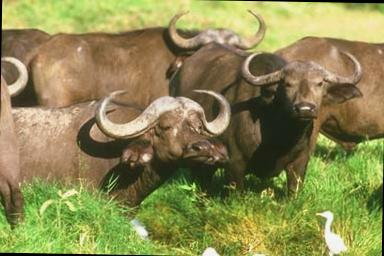Buffalo: (25, 2, 368, 242)
